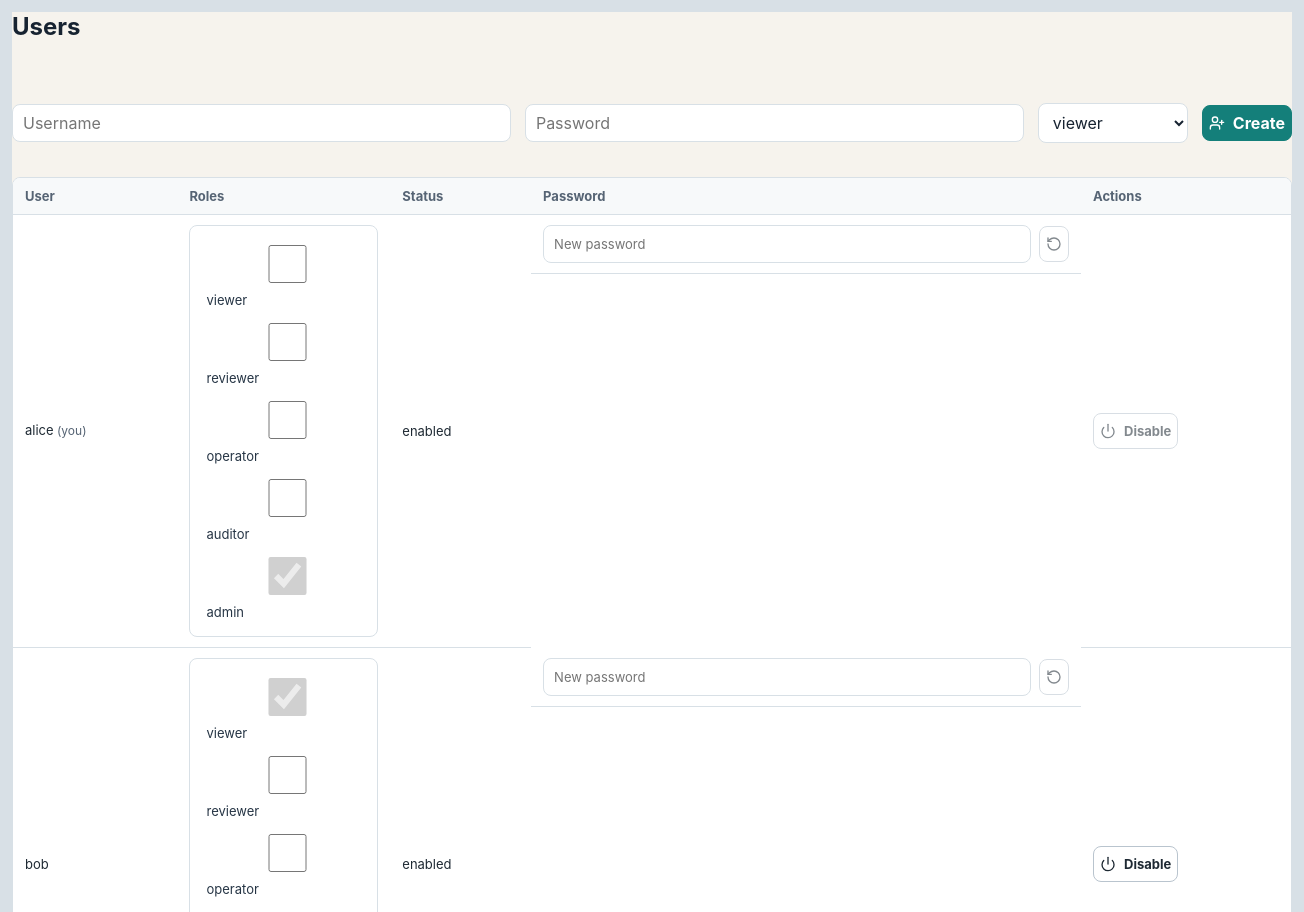
Test case: <Users> admin safety (#422, #417) › announces a successful password reset
expect the text "(you)" is shown: met, box [54,423,86,438]
Type "new-secret-1" into the password field named "New password for bob" at {"x": 787, "y": 676}, box [543,658,1031,696]
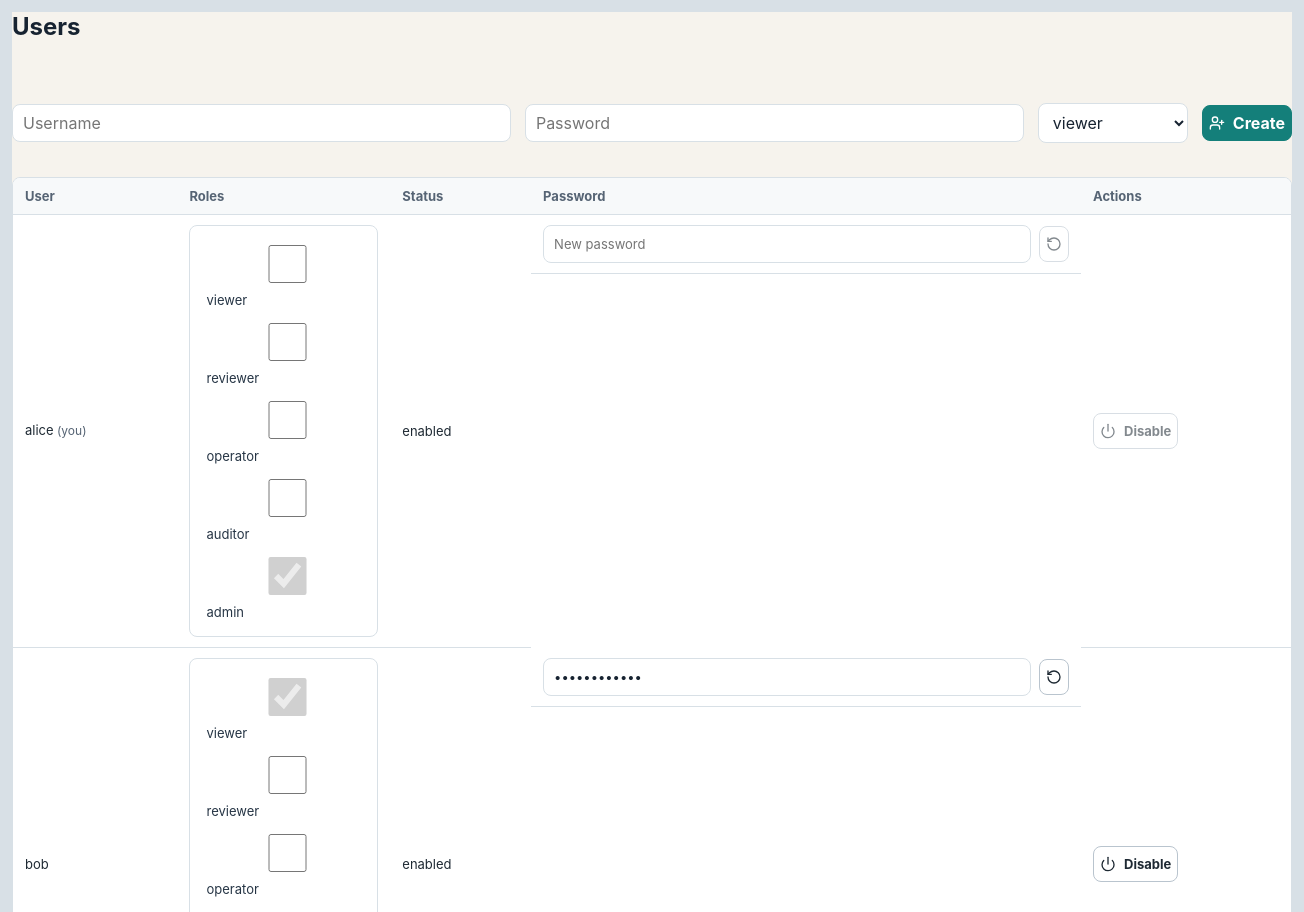
Click the button named "Reset password for bob" at {"x": 1054, "y": 676}, box [1039,658,1069,694]
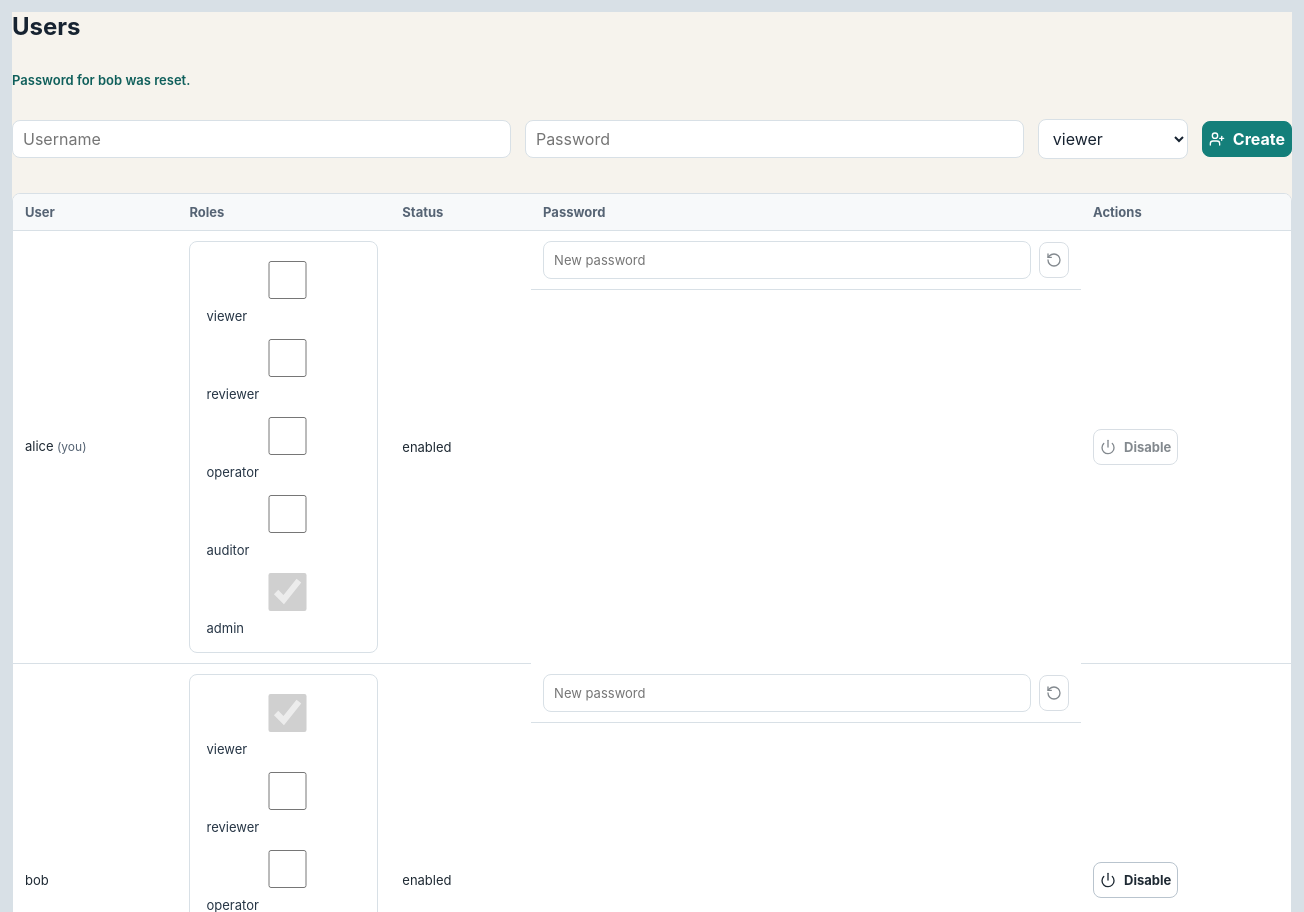
expect the text "Password for bob was reset." is shown: met, box [12,72,190,88]
expect the password field named "New password for bob" is empty: met, box [543,674,1031,712]
